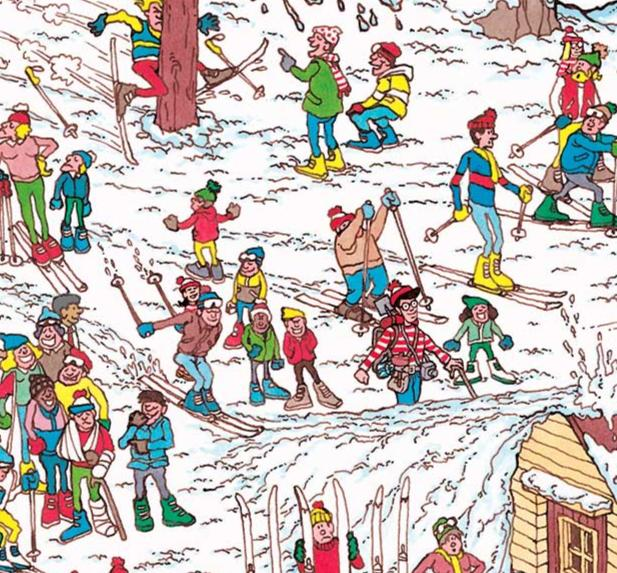waldo: (375, 273, 429, 332)
